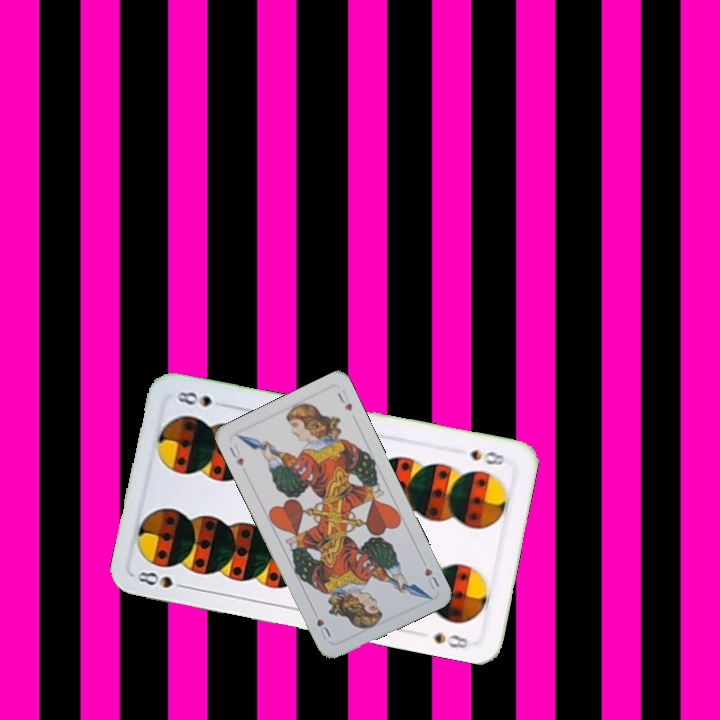HU: (420, 564, 442, 592), (225, 440, 246, 469)
S8: (133, 567, 192, 592), (466, 445, 508, 468)
